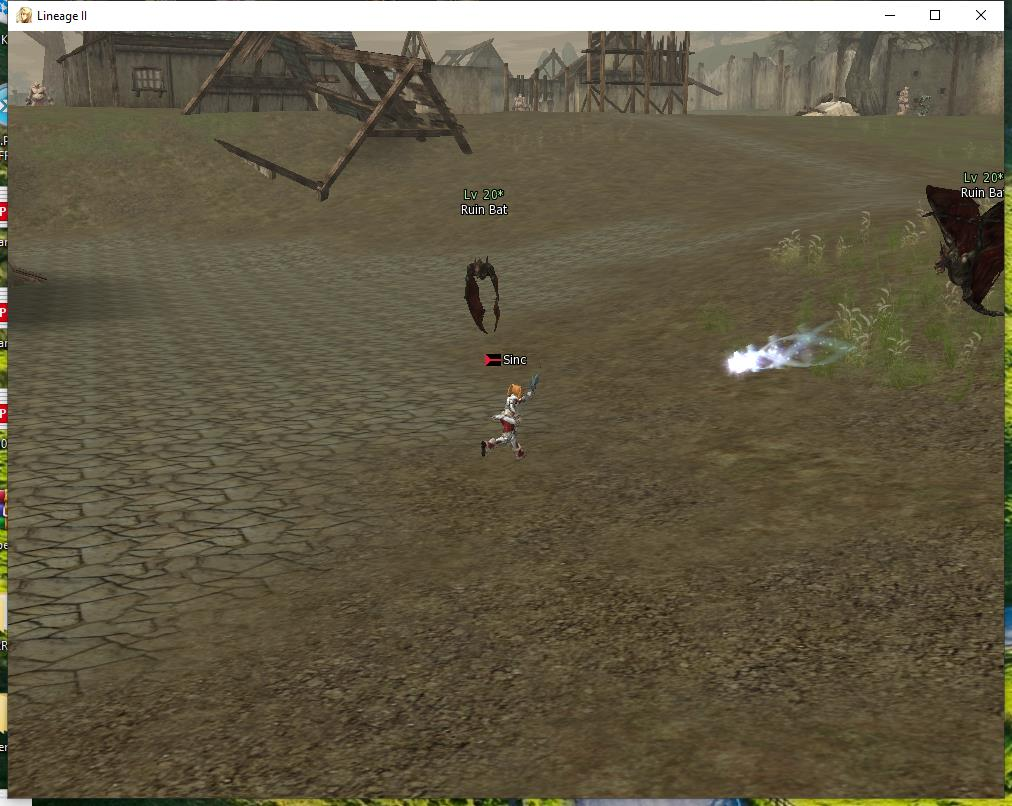monster: (923, 155, 1007, 313), (450, 176, 525, 334), (886, 73, 911, 119), (918, 78, 929, 128)
